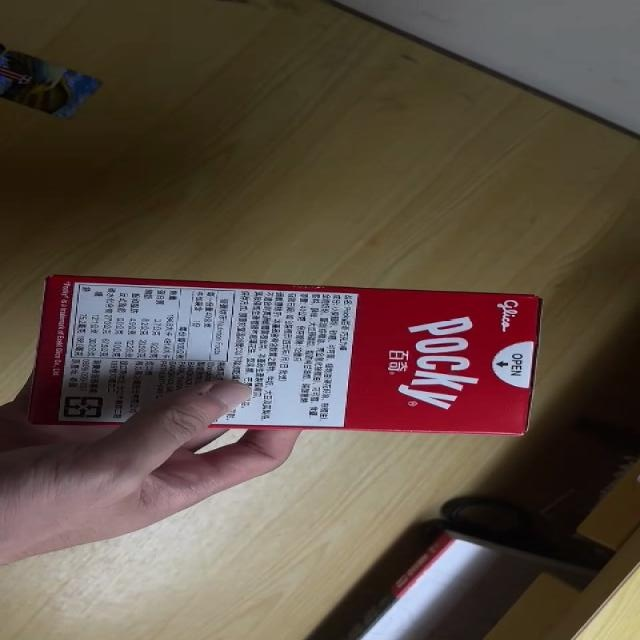Pocky: (26, 272, 542, 438)
